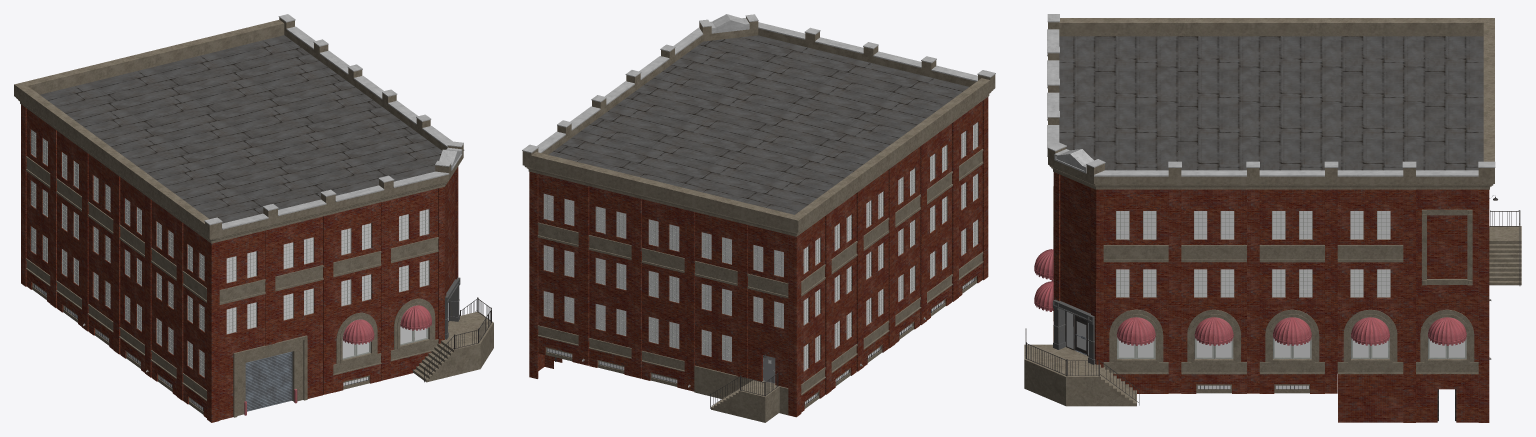
The model's file is Building_36.fbx.
3 views of the same model, side by side, from view 1: azimuth 30°, elevation 25°; view 2: azimuth 150°, elevation 25°; view 3: azimuth 270°, elevation 25° (orthographic). The views are drawn at different scales.
Parts seen in each view (by area): view 1: build_36_LOD0; view 2: build_36_LOD0; view 3: build_36_LOD0.
Part boxes in pixels (<box>): build_36_LOD0: <box>14,14,493,422</box>; build_36_LOD0: <box>522,14,995,422</box>; build_36_LOD0: <box>1024,14,1521,422</box>.
Size of what is drawn, in the model's own units: 2773 by 2081 by 3578.
